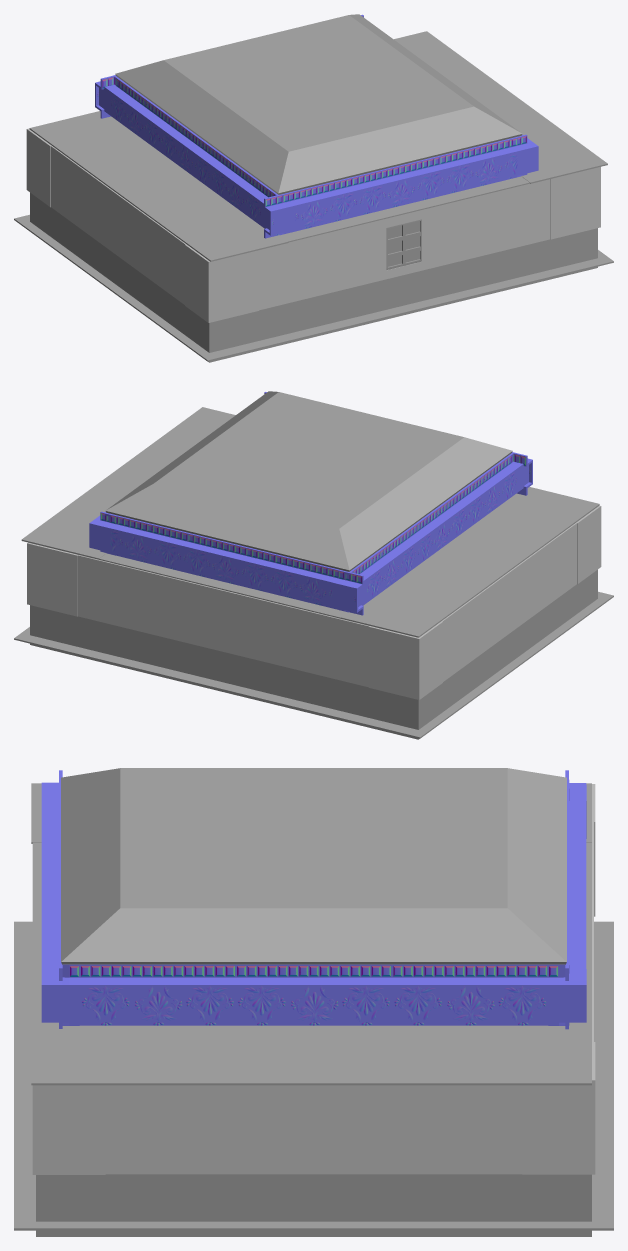
The model's file is LightingFix1.fbx.
The picture shows the model from 3 angles, top to bottom: view 1: azimuth 30°, elevation 25°; view 2: azimuth 150°, elevation 25°; view 3: azimuth 270°, elevation 25°; orthographic projection. The views are drawn at different scales.
Parts seen in each view (by area): view 1: pasted__polySurface19, floor1, LightBlocker, pasted__pPlane73, pasted__pPlane59, pasted__wall121, pasted__pPlane74, planemidfront_low17, pasted__wall110, pasted__wall112, pasted__wall113, pasted__wall109 (+20 smaller); view 2: pasted__polySurface19, floor1, LightBlocker, pasted__pPlane59, pasted__pPlane73, pasted__wall96, pasted__pPlane74, pasted__wall104, pasted__wall105, pasted__wall106, planemidfront_low23, pasted__wall107 (+19 smaller); view 3: pasted__polySurface19, floor1, LightBlocker, pasted__pPlane75, pasted__pPlane76, pasted__pPlane77, planemidfront_low15, planemidfront_low10, planemidfront_low14, pasted__wall118, pasted__wall116, pasted__wall117 (+15 smaller).
Part boxes in pixels (x1,y1,x2,y2): pasted__polySurface19: (115, 14, 522, 194); floor1: (30, 192, 597, 362); LightBlocker: (14, 214, 613, 361); pasted__pPlane73: (92, 156, 229, 221); pasted__pPlane59: (29, 111, 164, 175); pasted__wall121: (185, 244, 258, 322); pasted__pPlane74: (146, 201, 288, 261); planemidfront_low17: (352, 156, 445, 217); pasted__wall110: (317, 221, 375, 295); pasted__wall112: (433, 193, 491, 267); pasted__wall113: (492, 179, 550, 253); pasted__wall109: (259, 235, 316, 310); pasted__polySurface19: (105, 391, 512, 571); floor1: (30, 569, 597, 739); LightBlocker: (14, 591, 613, 738); pasted__pPlane59: (341, 572, 483, 637); pasted__pPlane73: (409, 525, 545, 590); pasted__wall96: (369, 621, 442, 699); pasted__pPlane74: (473, 487, 599, 544); pasted__wall104: (252, 597, 311, 672); pasted__wall105: (194, 583, 252, 658); pasted__wall106: (136, 569, 194, 644); planemidfront_low23: (182, 533, 275, 594); pasted__wall107: (78, 555, 136, 630); pasted__polySurface19: (61, 768, 566, 964); floor1: (36, 1023, 591, 1236); LightBlocker: (14, 921, 613, 1230); pasted__pPlane75: (392, 1024, 591, 1085); pasted__pPlane76: (198, 1025, 397, 1085); pasted__pPlane77: (31, 1024, 230, 1085); planemidfront_low15: (79, 964, 235, 1025); planemidfront_low10: (392, 964, 548, 1025); planemidfront_low14: (236, 964, 391, 1025); pasted__wall118: (366, 1085, 470, 1174); pasted__wall116: (157, 1085, 261, 1174); pasted__wall117: (262, 1085, 365, 1174).
Bounding box in the file's own units: 20.9 × 8.47 × 17.27.
